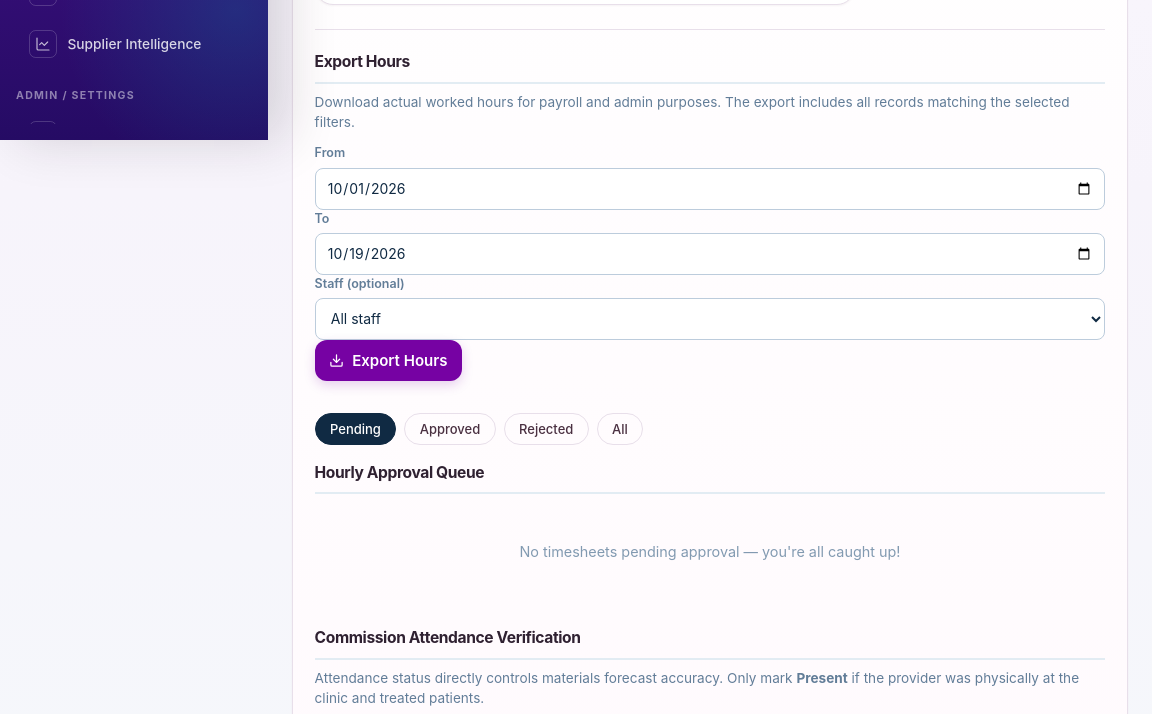
Test: TimesheetsPage — Export Hours panel › shows an error message when the export fails
(page scrolled)
Click the button "Export Hours" at (388, 361), box [315,340,462,381]
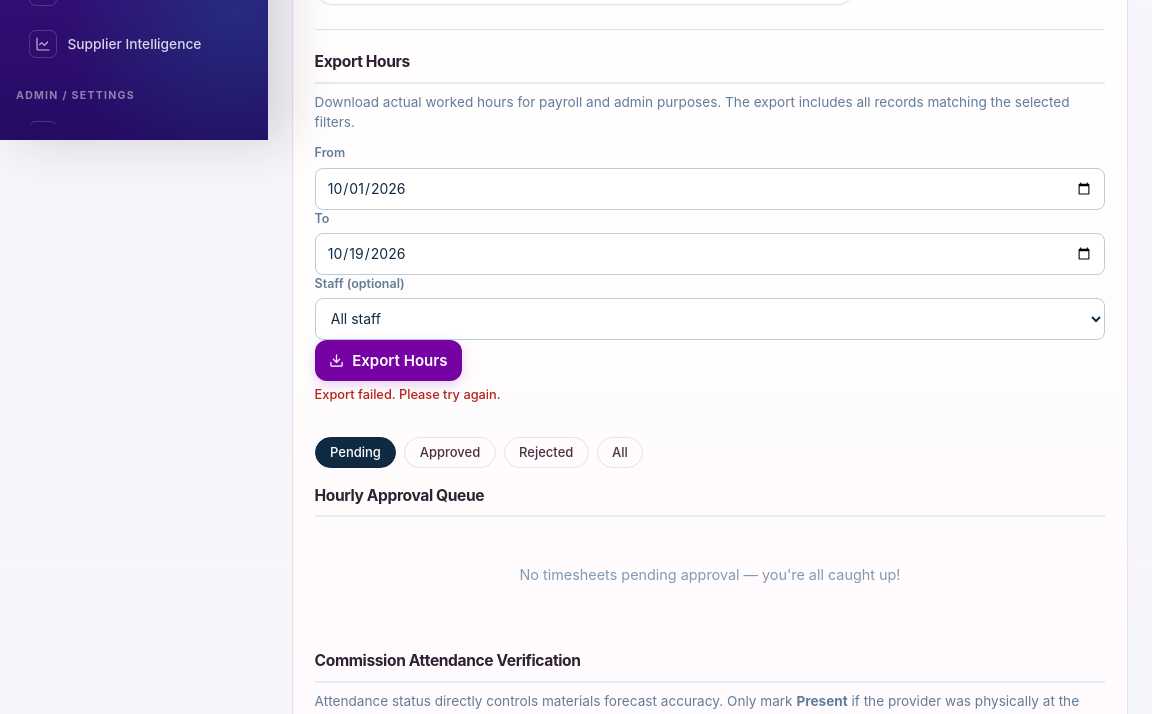
Check: the message "Export failed. Please try again." is shown, box [315,387,501,402]
